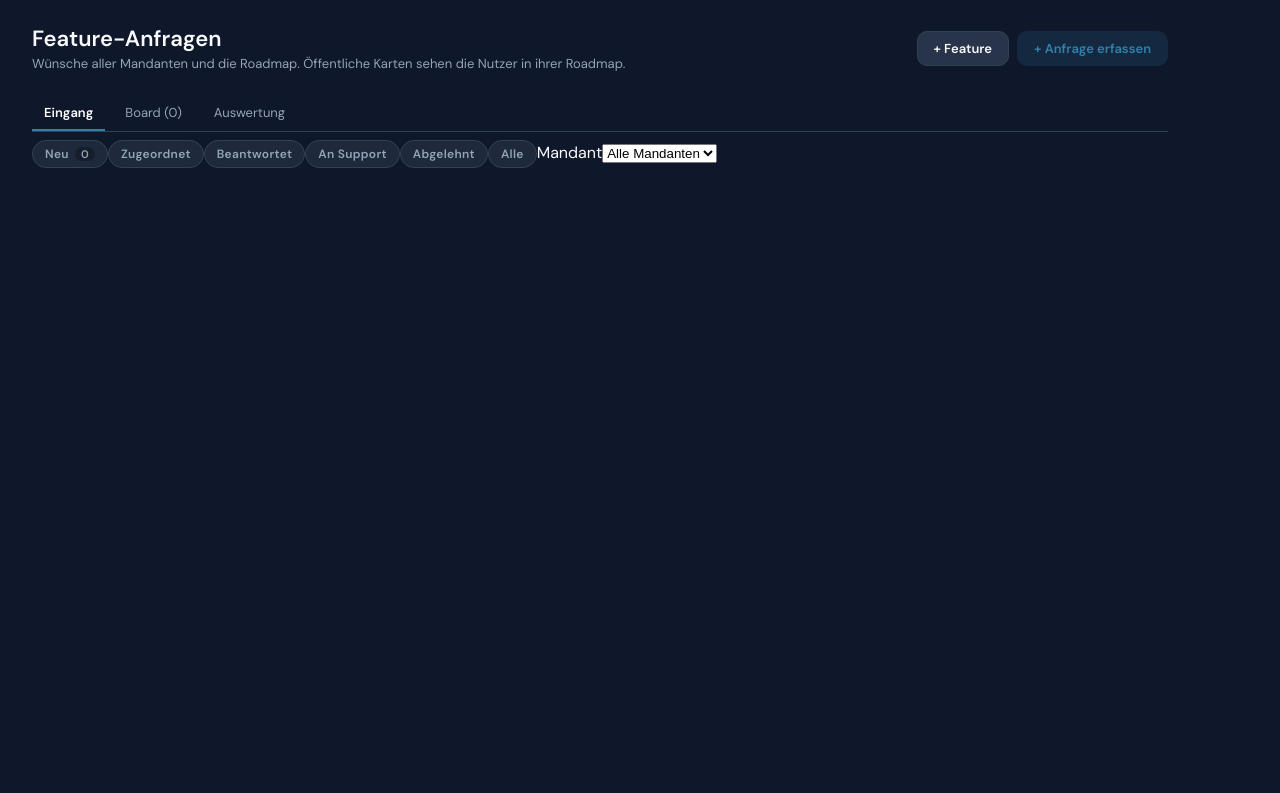
Test: Auswertung › lädt 90 Tage wochenweise und zeigt die Kacheln
Click the tab "Auswertung". click: (249, 114)
box: [202,96,297,131]
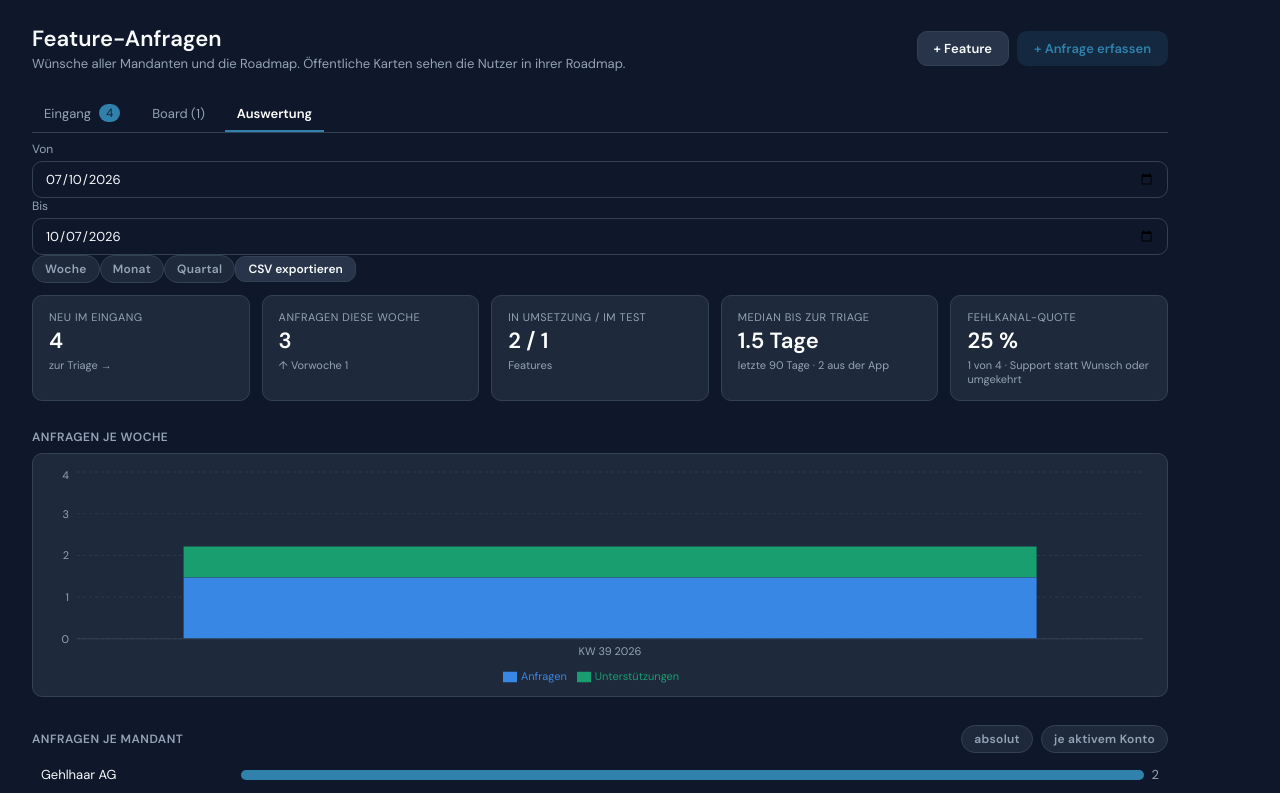
Expected: the text "Fehlkanal-Quote" is shown, [967,310,1076,324]
Expected: the text "25 %" is shown, [967,326,1018,355]
Expected: the text "1.5 Tage" is shown, [738,326,819,355]
